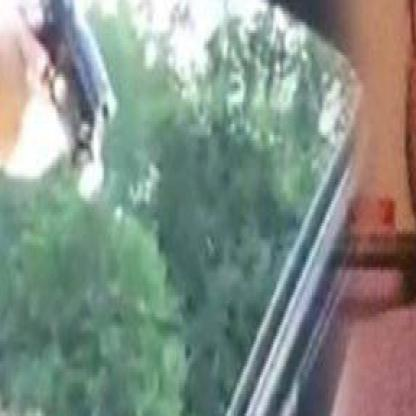gun: (3, 0, 123, 218)
